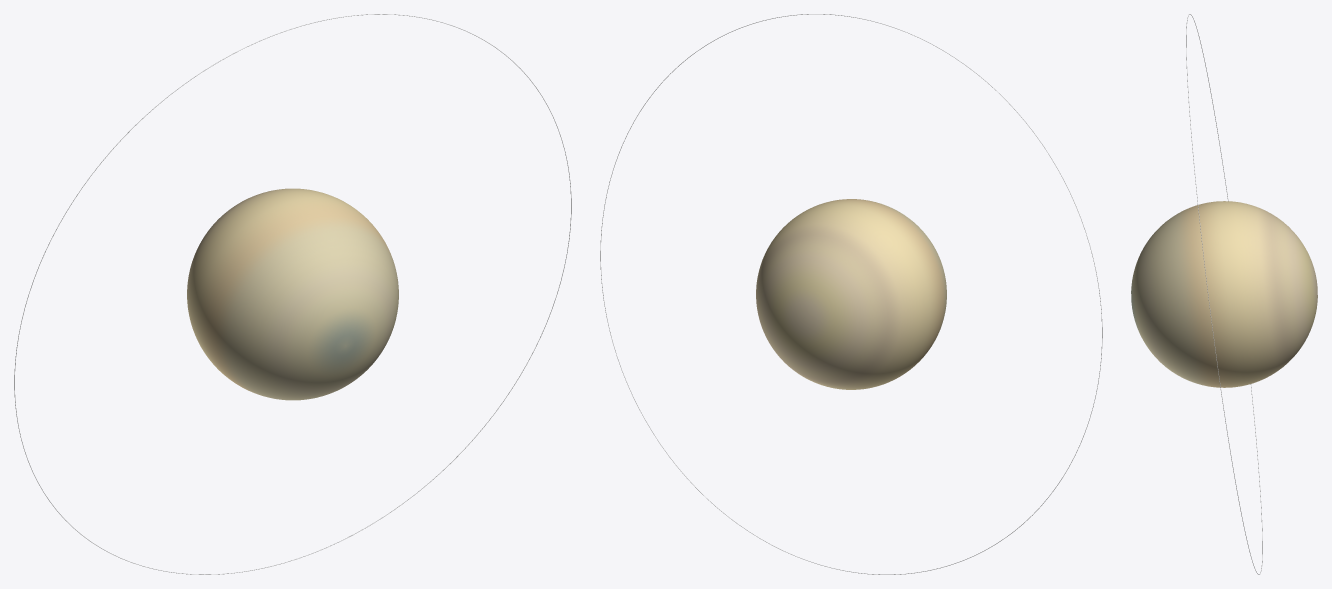
File: Uranus.fbx
3 views of the same model, side by side, from view 1: azimuth 30°, elevation 25°; view 2: azimuth 150°, elevation 25°; view 3: azimuth 270°, elevation 25° (orthographic). The views are drawn at different scales.
Parts seen in each view (by area): view 1: UranusAtmosphere, UranusRings; view 2: UranusAtmosphere, UranusRings; view 3: UranusAtmosphere, UranusRings.
Boxes of the visible parts, bbox=[...] form: UranusAtmosphere: bbox=[187, 188, 398, 400]; UranusRings: bbox=[14, 14, 571, 574]; UranusAtmosphere: bbox=[756, 199, 946, 389]; UranusRings: bbox=[600, 14, 1102, 574]; UranusAtmosphere: bbox=[1131, 201, 1317, 387]; UranusRings: bbox=[1186, 14, 1262, 574].
Bounding box in the file's own units: 130 × 129 × 42.97.
